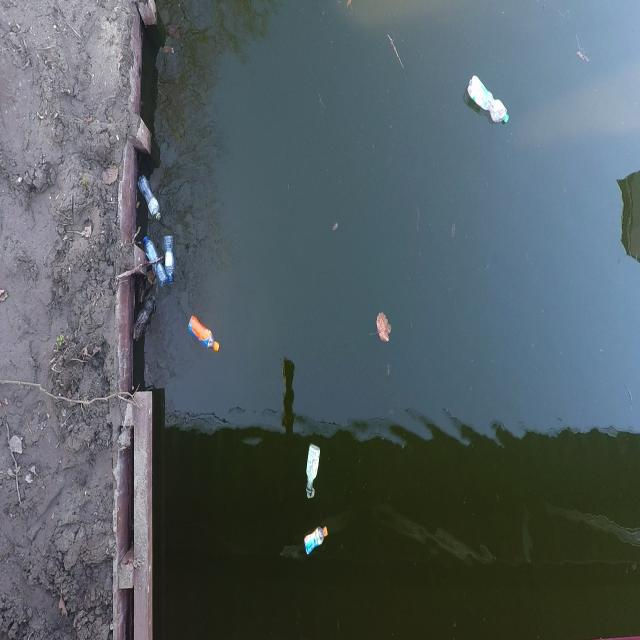Bouteille plastique: (466, 77, 512, 125), (142, 233, 170, 293), (129, 293, 158, 346), (136, 169, 163, 225), (186, 314, 221, 356), (305, 444, 321, 502), (303, 524, 330, 557), (162, 229, 176, 282)
